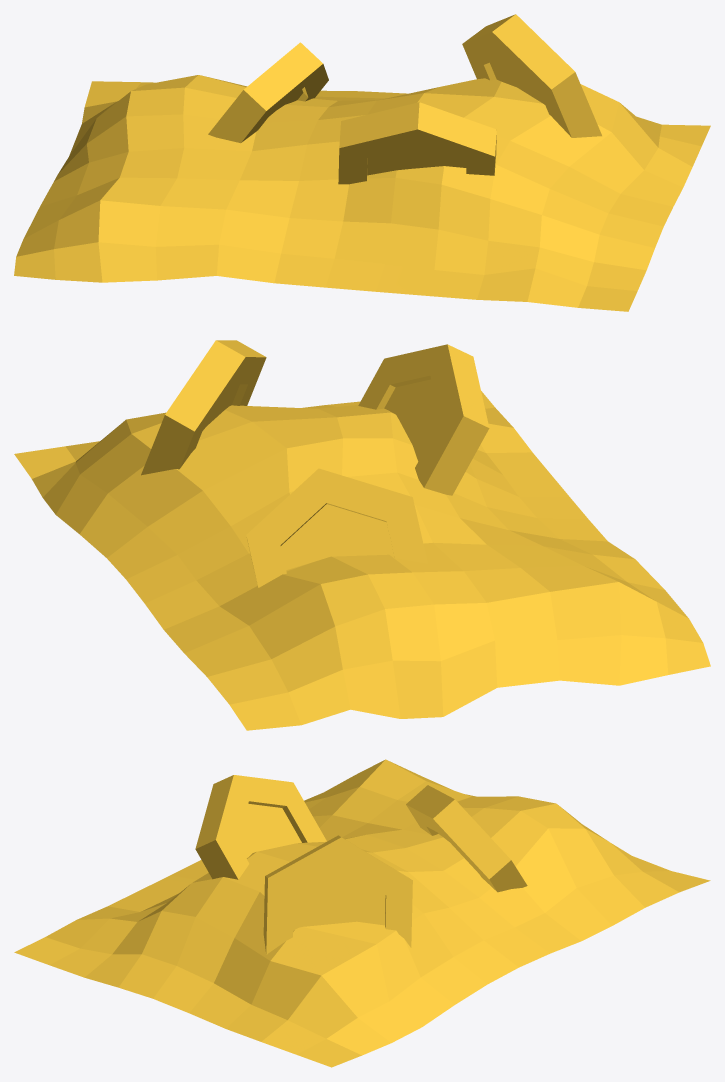
File: 海豹玩偶.fbx
3 views of the same model, one above another, from view 1: azimuth 30°, elevation 25°; view 2: azimuth 150°, elevation 25°; view 3: azimuth 270°, elevation 25° (orthographic). The views are drawn at different scales.
Parts seen in each view (by area): view 1: chest's gold.001; view 2: chest's gold.001; view 3: chest's gold.001.
Boxes of the visible parts, x1=… form: chest's gold.001: x1=14, y1=14, x2=710, y2=311; chest's gold.001: x1=14, y1=340, x2=710, y2=730; chest's gold.001: x1=14, y1=759, x2=710, y2=1067.
Size of the model in its own units: 146 by 38.57 by 142.
